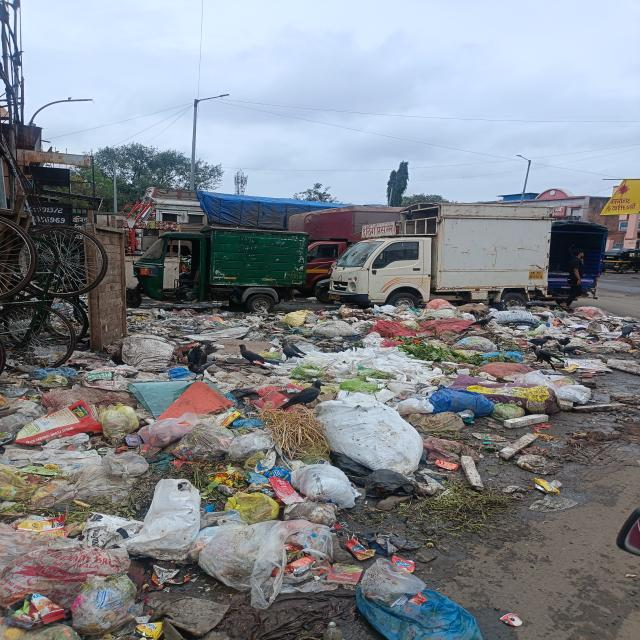garbage: (0, 301, 629, 448), (5, 453, 461, 640)
